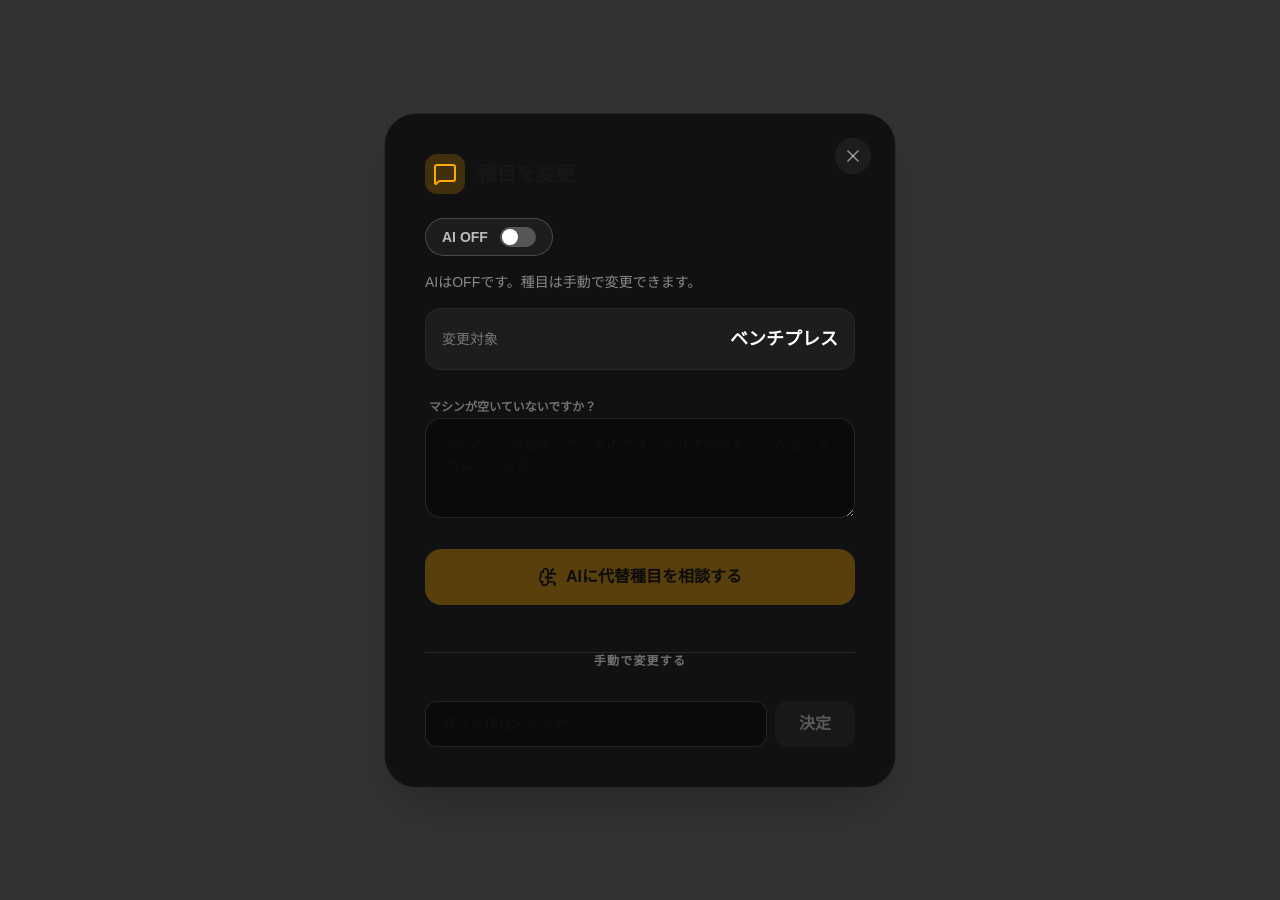
相談中のOFF→ONでも古い候補を表示しない
The width and height of the screenshot is (1280, 900).
Click the switch at (489, 236), box [425,218,553,256]
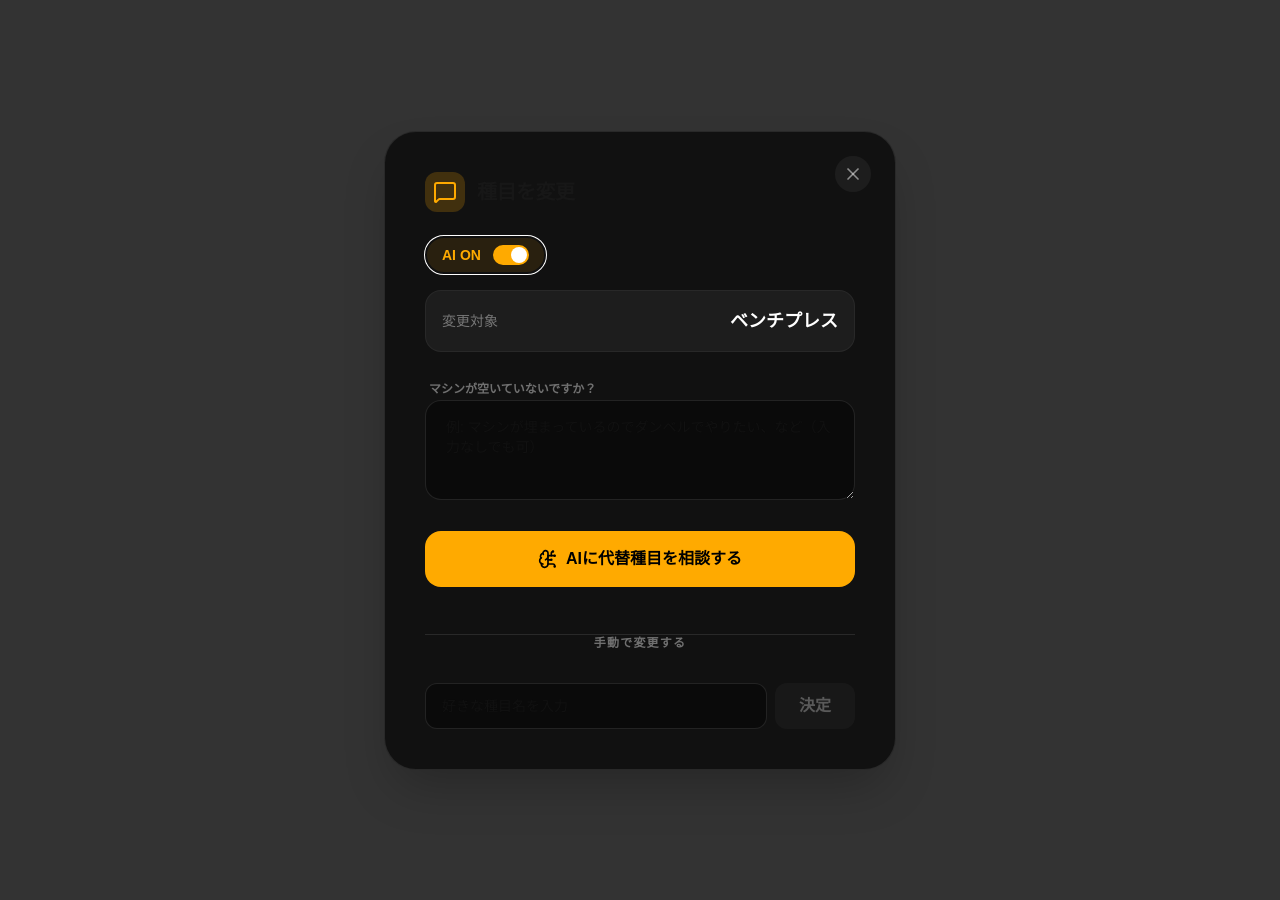
Click the button "AIに代替種目を相談する" at (640, 558), box [425,530,855,586]
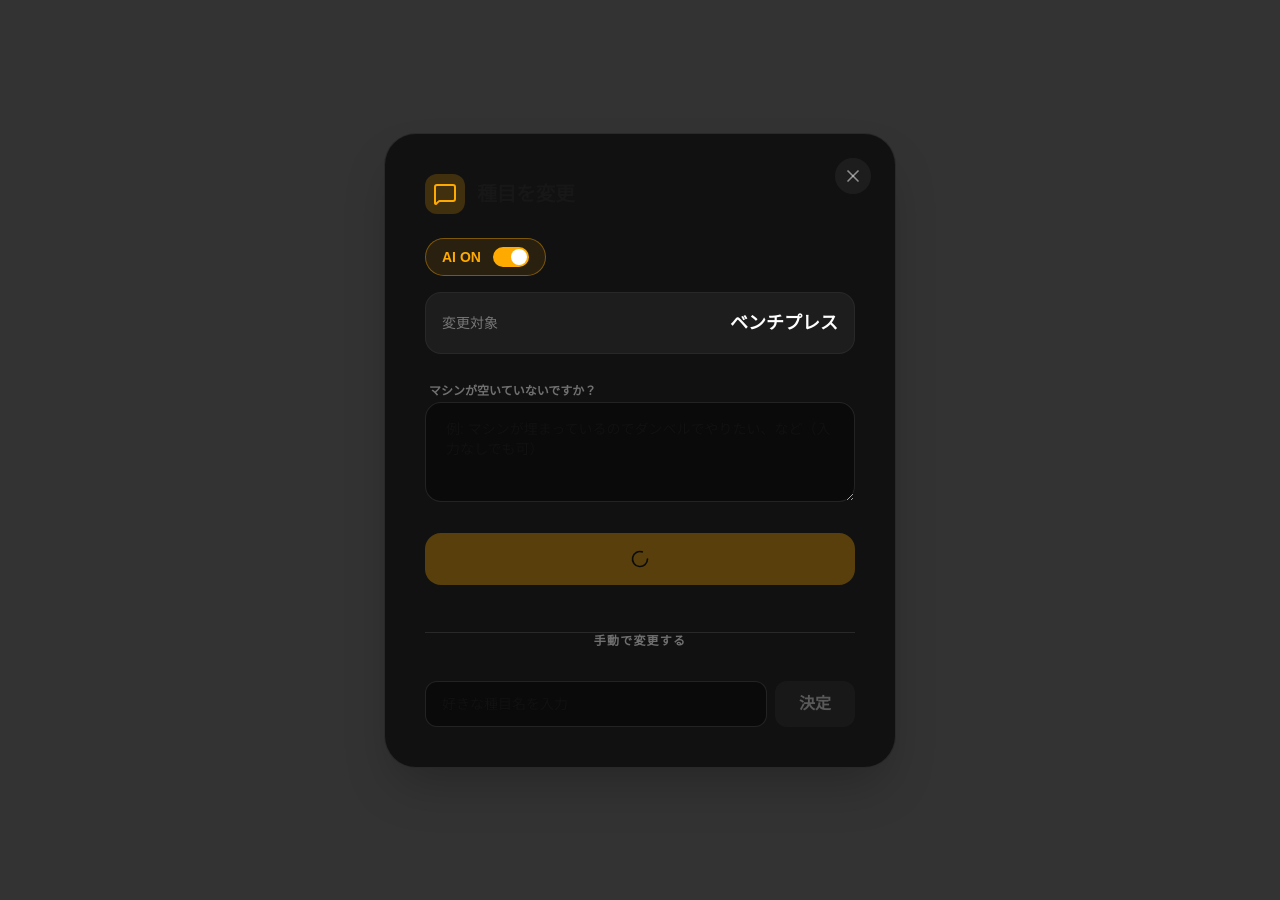
Click the switch at (485, 256), box [425,238,546,276]
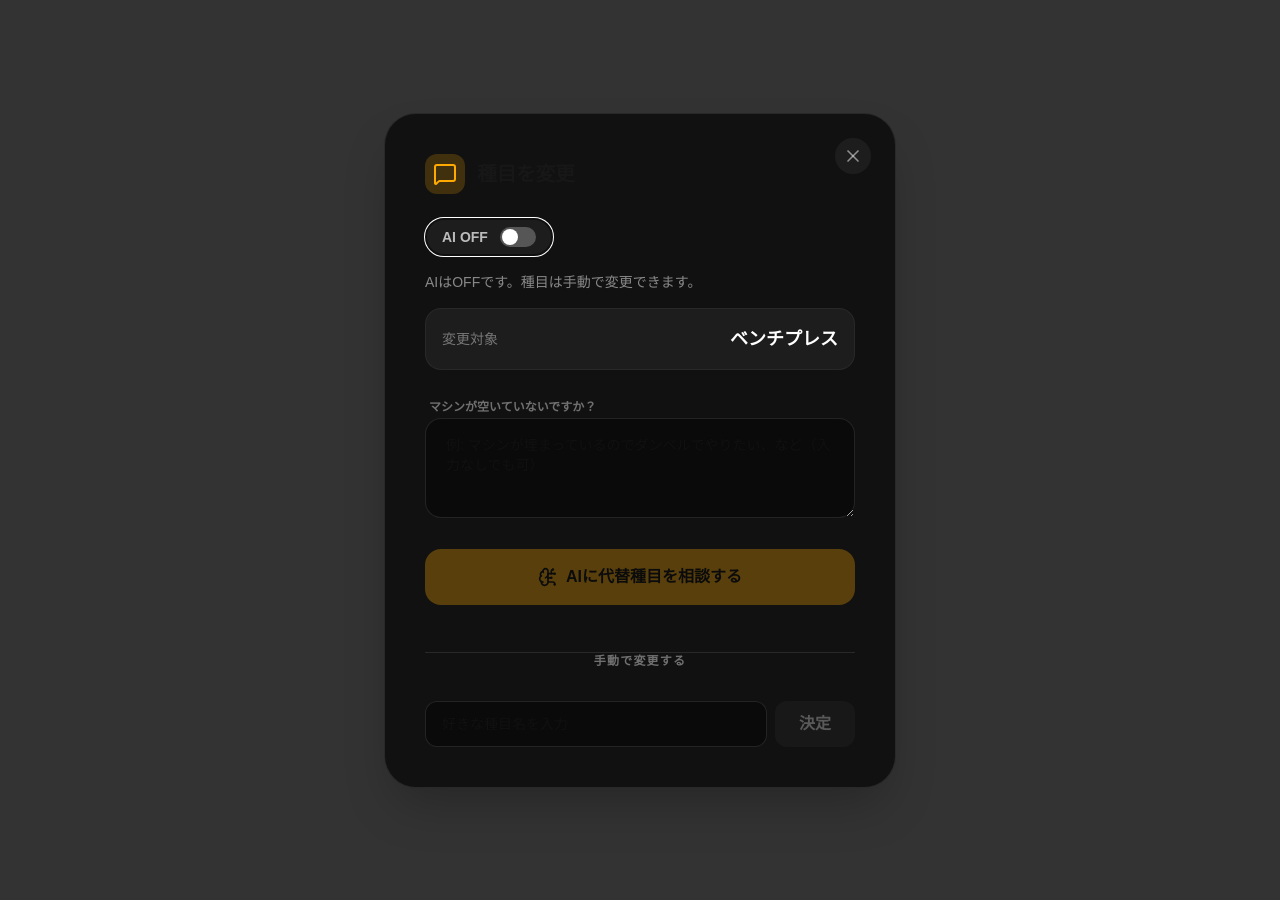
Click the switch at (489, 236), box [425,218,553,256]
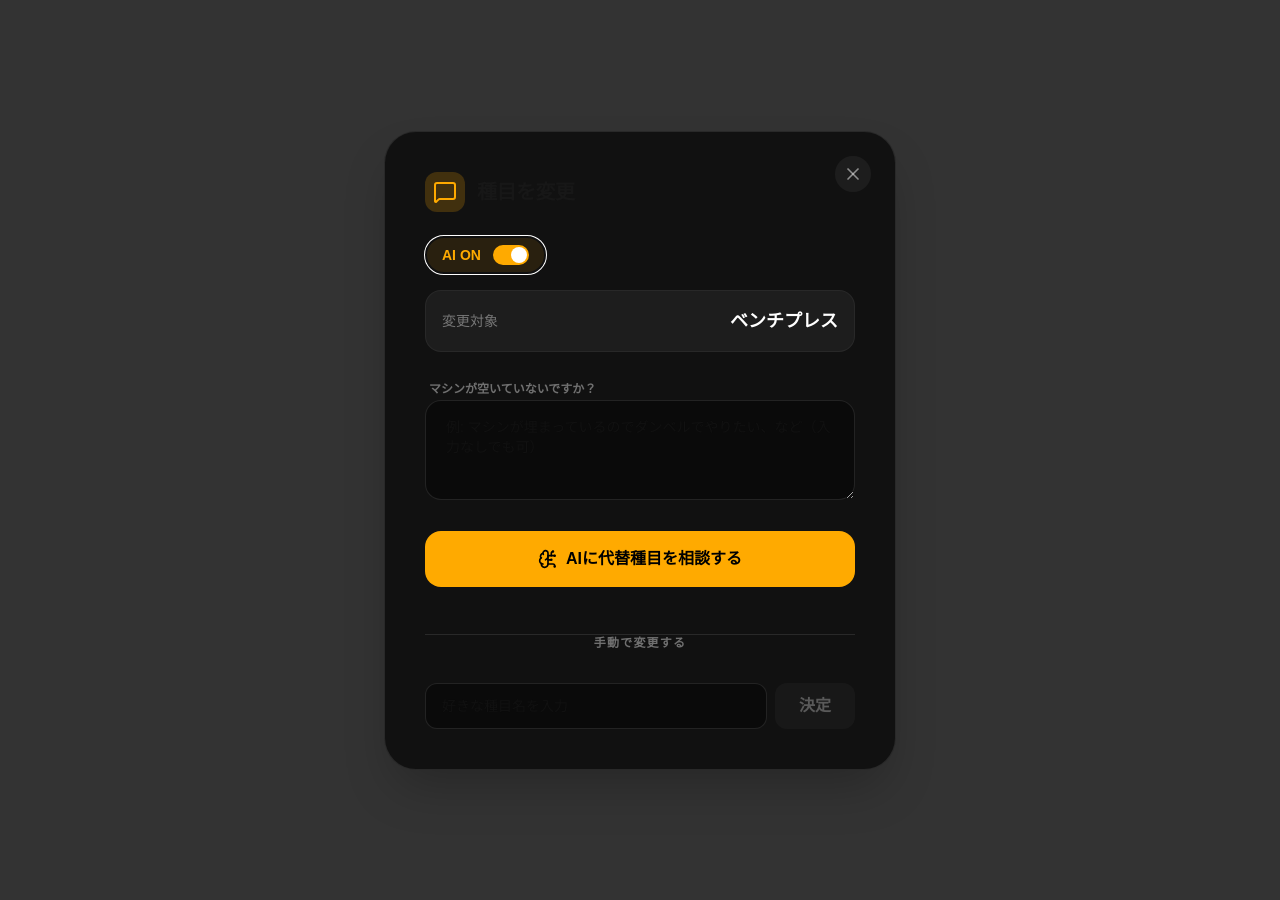
Check: the button "AIに代替種目を相談する" is enabled, box [425,530,855,586]
